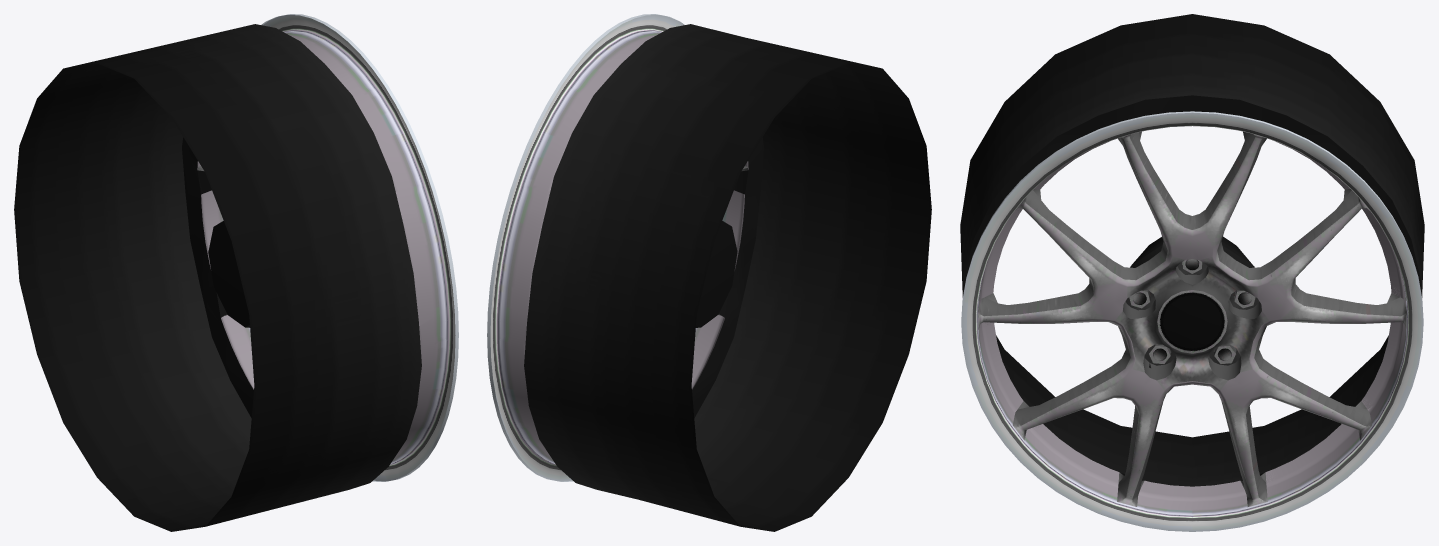
The model's file is wheel15.fbx.
3 renders of one model, left to right at view 1: azimuth 30°, elevation 25°; view 2: azimuth 150°, elevation 25°; view 3: azimuth 270°, elevation 25°, orthographic. The views are drawn at different scales.
Parts seen in each view (by area): view 1: bbs_rk_wheel_wheel_inner_rim_, wheel_rim, bbs_rk_wheel_wheel_rim_; view 2: bbs_rk_wheel_wheel_inner_rim_, wheel_rim, bbs_rk_wheel_wheel_rim_; view 3: bbs_rk_wheel_wheel_inner_rim_, bbs_rk_wheel_wheel_rim_, wheel_rim.
Part boxes in pixels (x1,y1,x2,y2): bbs_rk_wheel_wheel_inner_rim_: [14, 24, 421, 531]; wheel_rim: [197, 14, 458, 481]; bbs_rk_wheel_wheel_rim_: [197, 14, 456, 481]; bbs_rk_wheel_wheel_inner_rim_: [524, 24, 931, 531]; wheel_rim: [488, 14, 748, 481]; bbs_rk_wheel_wheel_rim_: [487, 14, 748, 481]; bbs_rk_wheel_wheel_inner_rim_: [960, 14, 1424, 486]; bbs_rk_wheel_wheel_rim_: [969, 111, 1422, 516]; wheel_rim: [961, 112, 1423, 531].
Size of the model in its own units: 0.2319 by 0.4571 by 0.4546.
1 material, 1 textured.
